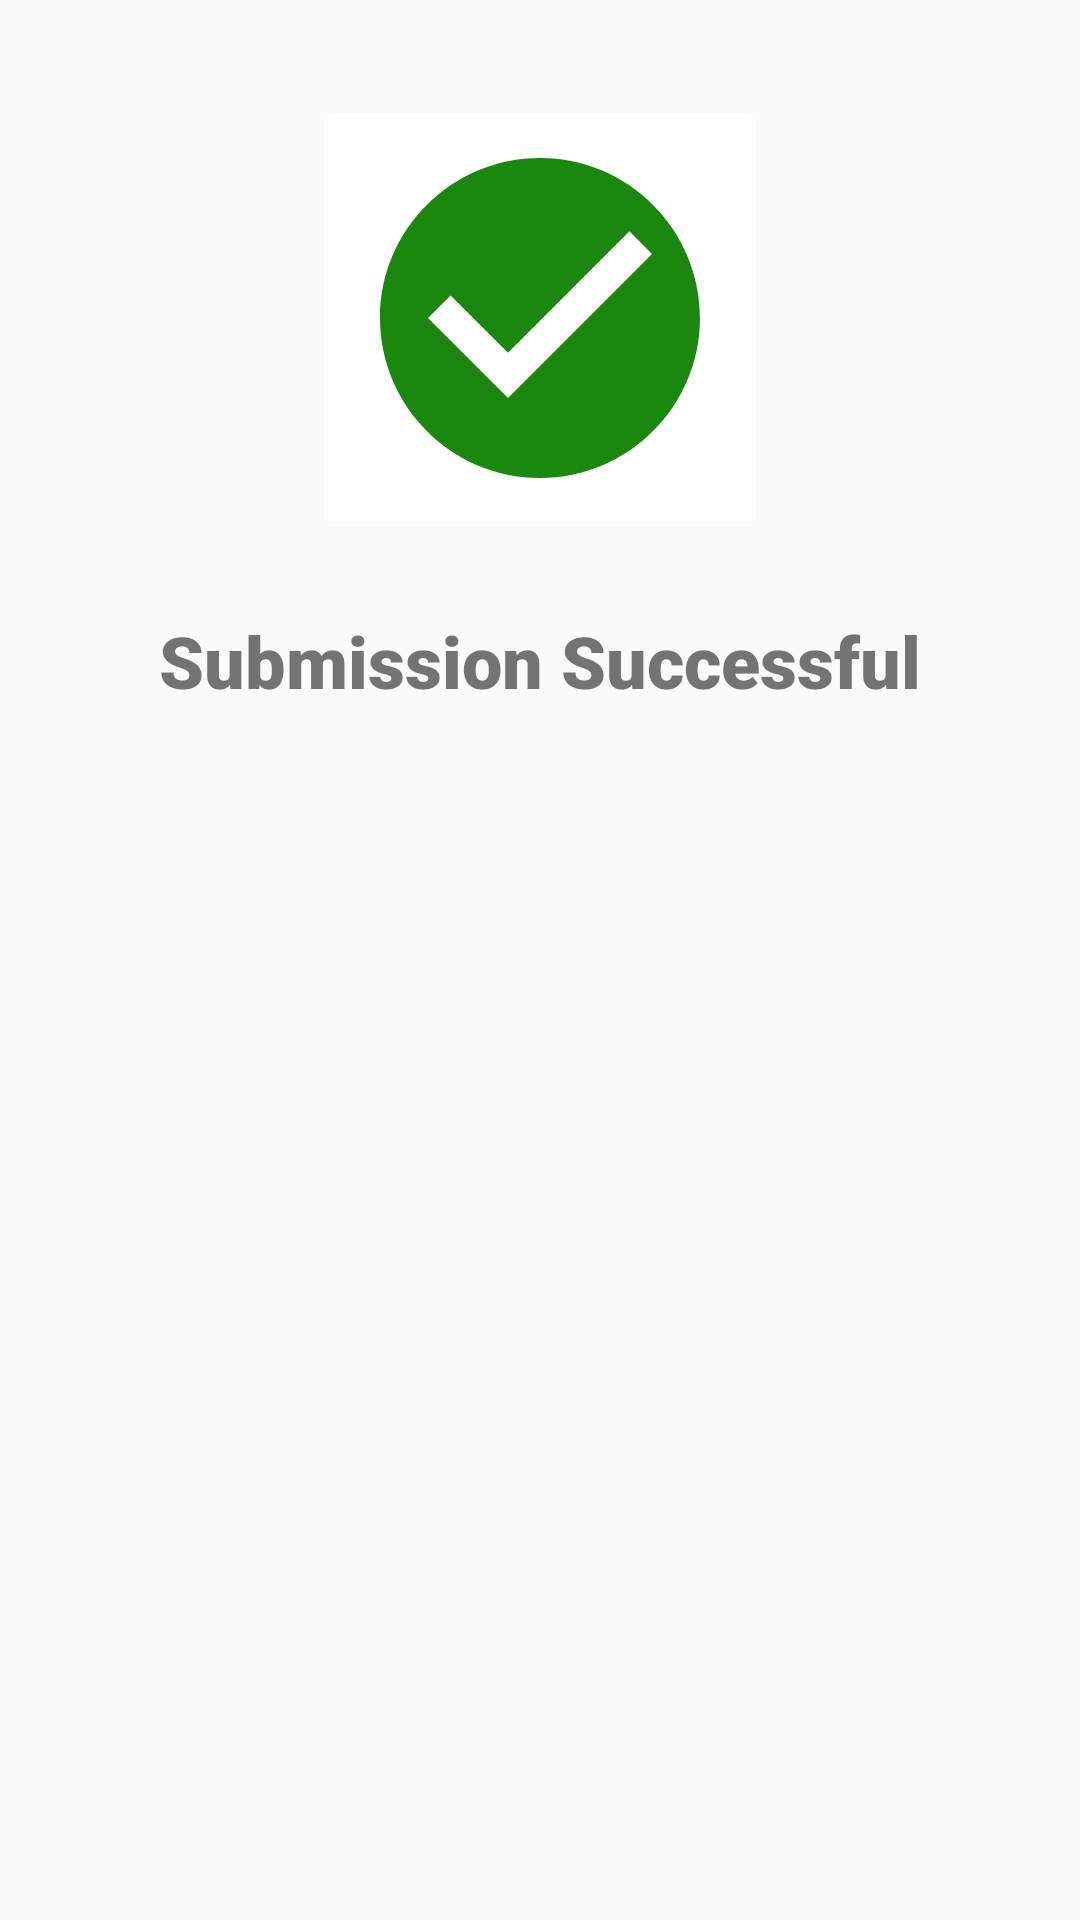

Named icons in this screenshot (1080 x 1920) and their bounding boxes, [x1=x1, y1=y1, x2=x2, y2=y2]:
check circle: [x1=380, y1=158, x2=700, y2=478]
